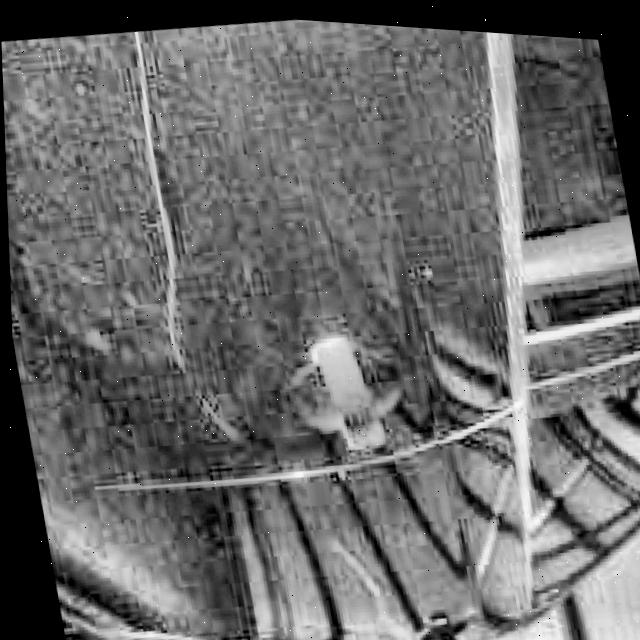door_scratch: (99, 38, 215, 395), (325, 533, 399, 622), (191, 377, 243, 457)
